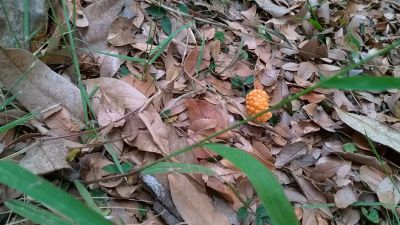eggs: (242, 87, 274, 124)
